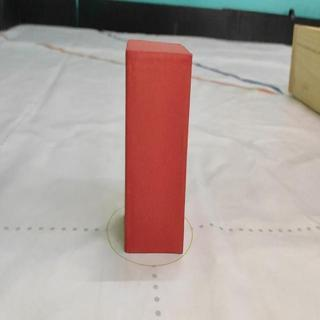redbox: (124, 38, 192, 257)
